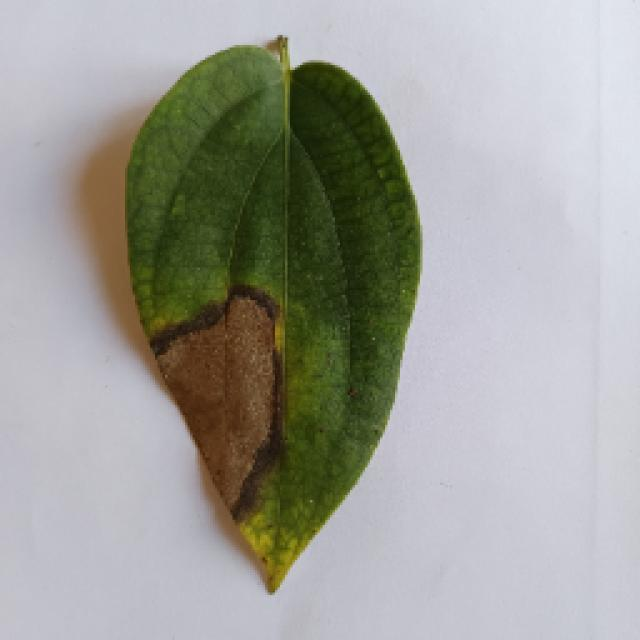footrot: (105, 38, 430, 592)
